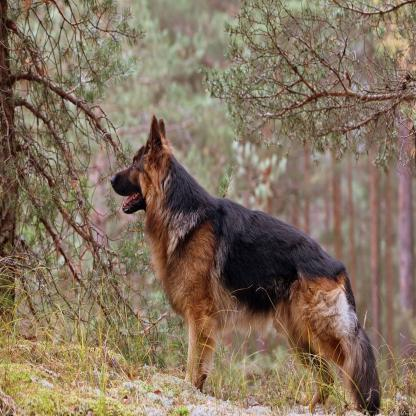german shepherd: (116, 118, 378, 408)
